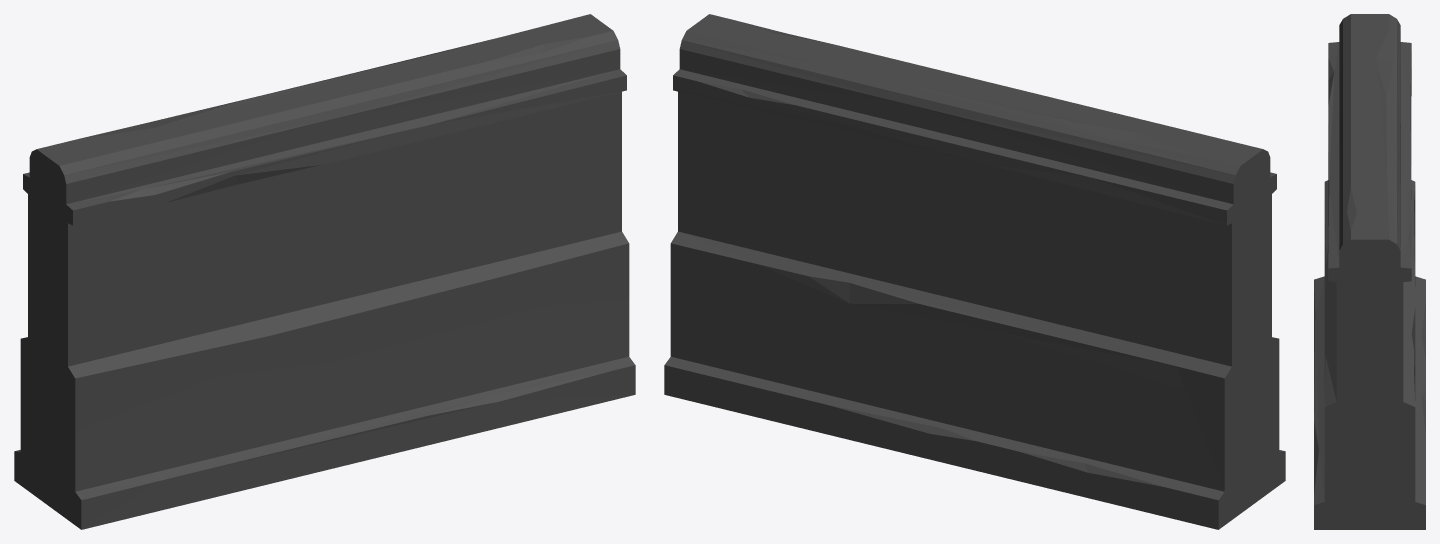
File: Wall_03.fbx
3 renders of one model, left to right at view 1: azimuth 30°, elevation 25°; view 2: azimuth 150°, elevation 25°; view 3: azimuth 270°, elevation 25°, orthographic. The views are drawn at different scales.
Parts seen in each view (by area): view 1: SM_Bld_Wall_Retaining_01; view 2: SM_Bld_Wall_Retaining_01; view 3: SM_Bld_Wall_Retaining_01.
Part boxes in pixels (box(x1,y1,x2,y2)): SM_Bld_Wall_Retaining_01: box(14, 14, 635, 529); SM_Bld_Wall_Retaining_01: box(664, 14, 1285, 529); SM_Bld_Wall_Retaining_01: box(1314, 14, 1425, 529).
Size of the model in its own units: 250 by 150 by 52.36.
